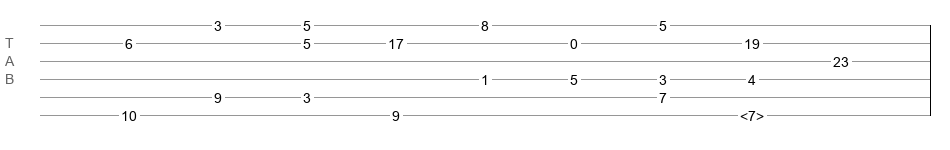0: (570, 36, 578, 46)
1: (481, 72, 489, 82)
10: (121, 108, 137, 118)
17: (388, 36, 404, 46)
19: (744, 36, 760, 46)
23: (833, 54, 849, 64)
3: (214, 18, 222, 28), (303, 90, 311, 100), (659, 72, 667, 82)
4: (748, 72, 756, 82)
5: (303, 18, 311, 28), (303, 36, 311, 46), (570, 72, 578, 82), (659, 18, 667, 28)
6: (125, 36, 133, 46)
7: (659, 90, 667, 100)
8: (481, 18, 489, 28)
9: (214, 90, 222, 100), (392, 108, 400, 118)
harmonic: (740, 108, 764, 118)
